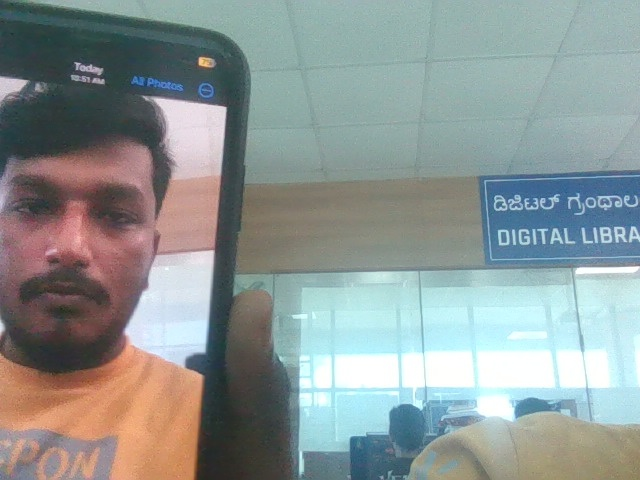fake: (0, 46, 236, 380)
